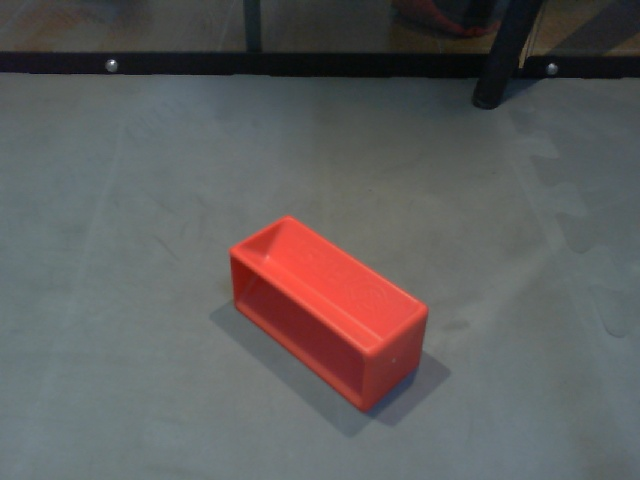RedSample: (227, 212, 430, 419)
